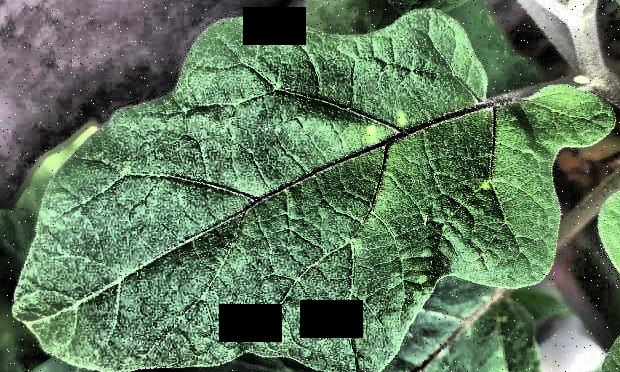HEALTHY: (0, 1, 620, 372)
